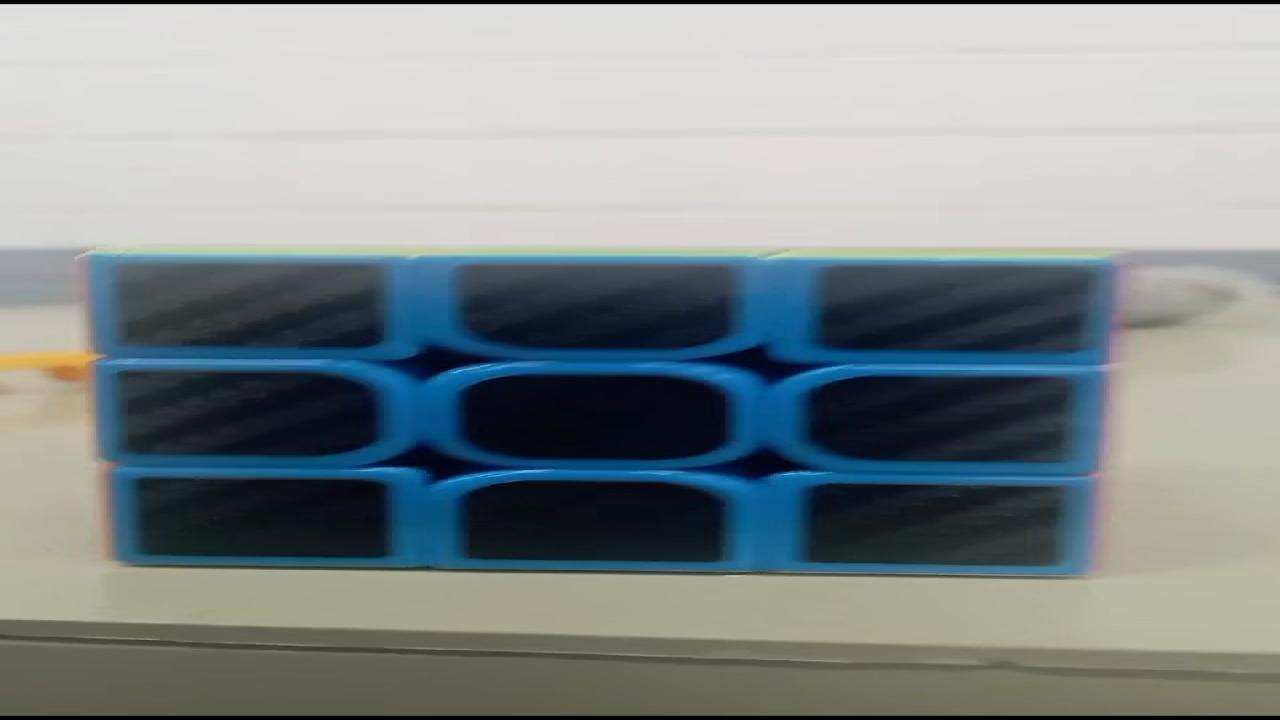Cube: (75, 243, 1128, 578)
